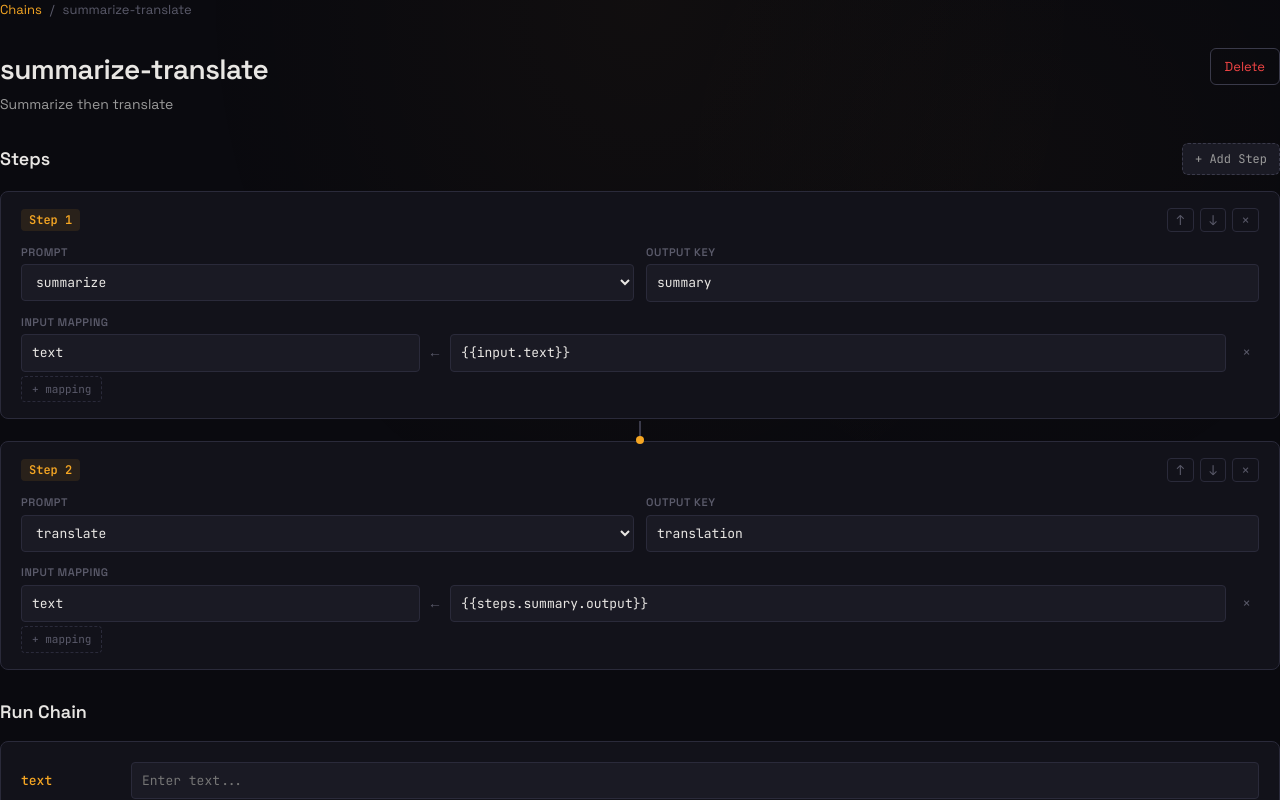
Scenario: ChainDetailPage › shows save button after editing steps
The image size is (1280, 800).
Click the button "+ Add Step": click(1231, 158) [1182, 142, 1279, 174]
(page scrolled)
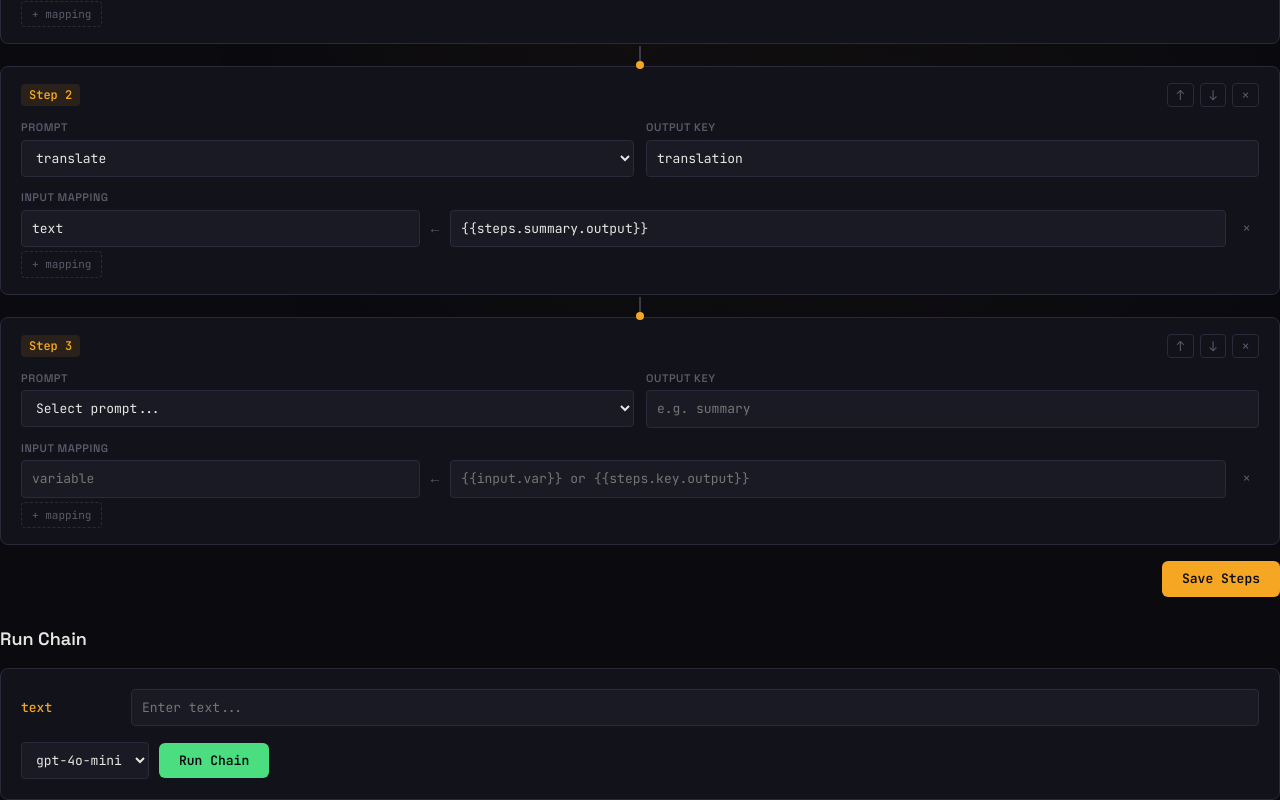
Now the button "Save Steps" is shown, box [1162, 561, 1279, 596]
